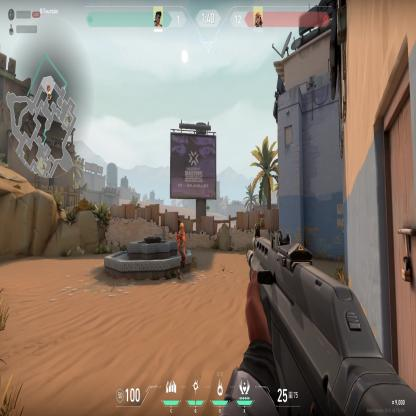enemy: (175, 222, 188, 280)
